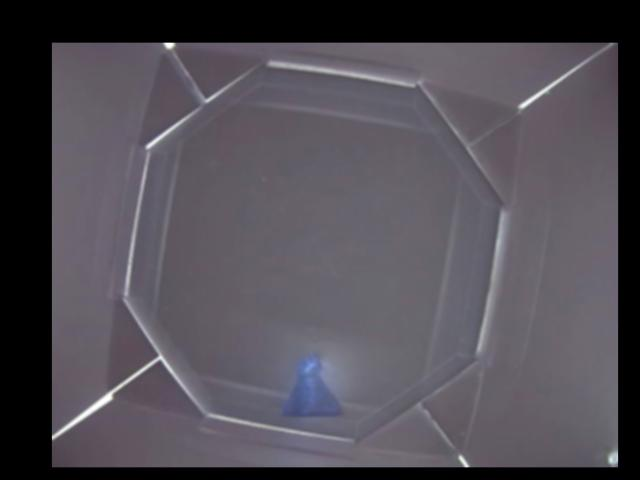Mooli: (279, 354, 345, 417)
